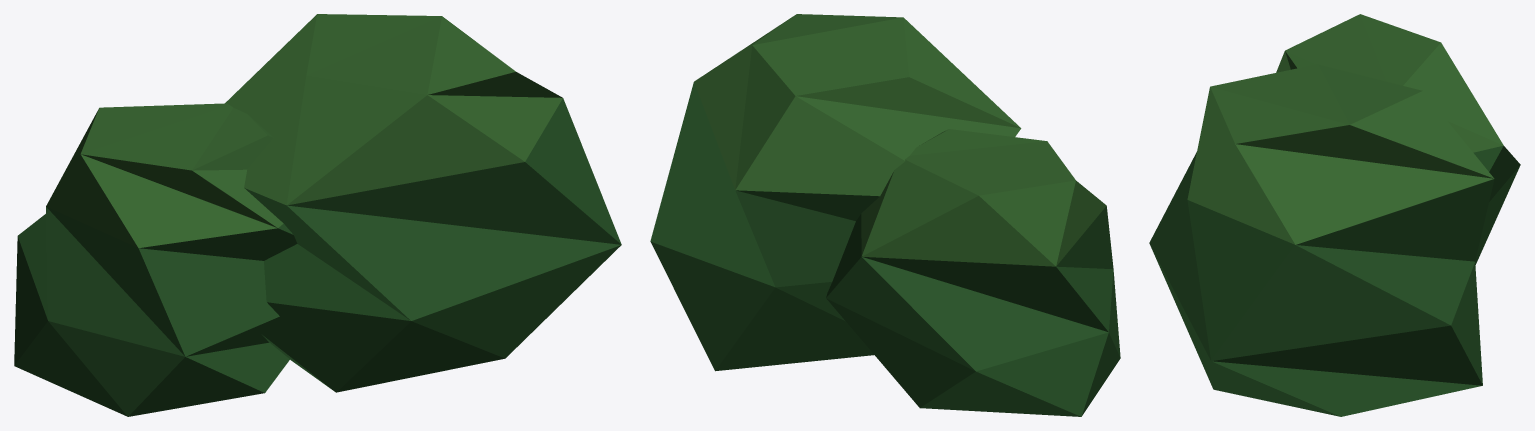
File: shrub.glb
3 renders of one model, left to right at view 1: azimuth 30°, elevation 25°; view 2: azimuth 150°, elevation 25°; view 3: azimuth 270°, elevation 25°, orthographic. The views are drawn at different scales.
Visible parts, largest first — view 1: shrub; view 2: shrub; view 3: shrub.
Boxes of the visible parts, <box> form: shrub: <box>14,14,621,416</box>; shrub: <box>650,14,1120,416</box>; shrub: <box>1149,14,1520,416</box>.
Size of the model in its own units: 1.67 by 0.9377 by 1.15.
